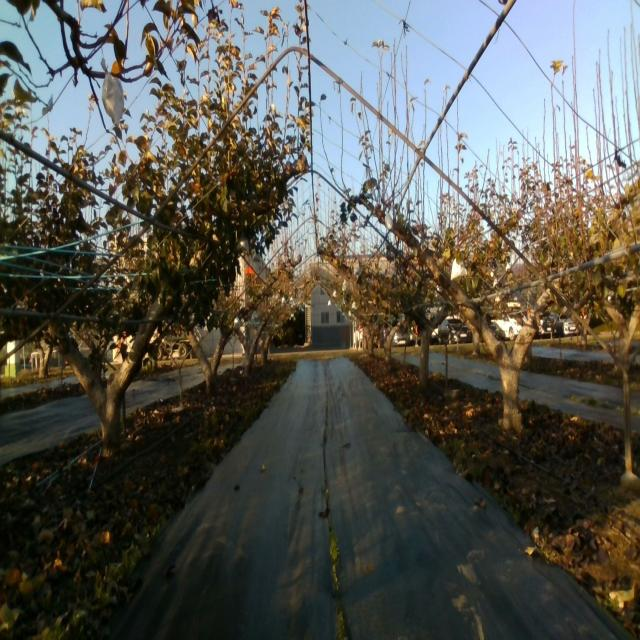pearbags: (99, 57, 124, 125), (451, 257, 467, 282), (237, 231, 250, 253), (384, 213, 395, 234)
